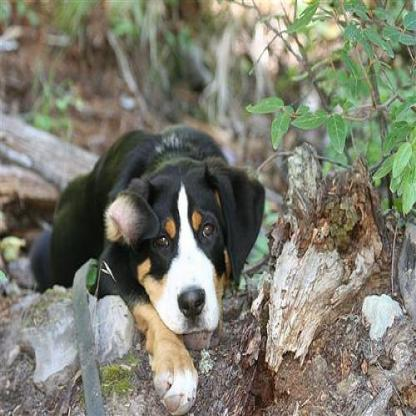Greater_Swiss_Mountain_dog: (29, 118, 266, 411)
